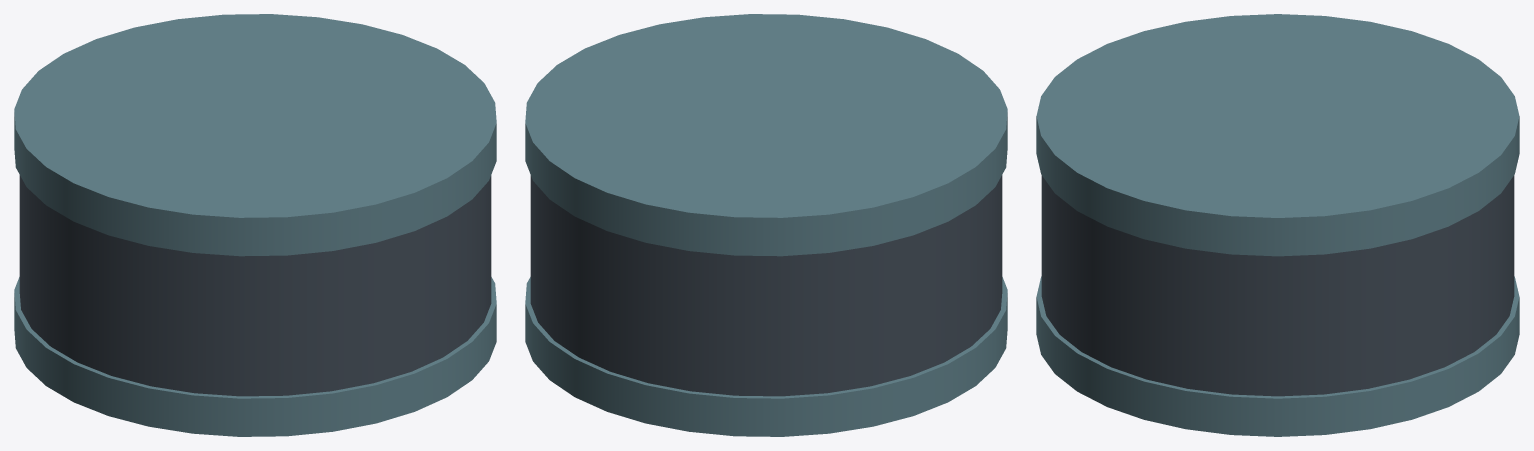
The model's file is SM_SupportJoint_R032_L032.glb.
3 views of the same model, side by side, from view 1: azimuth 30°, elevation 25°; view 2: azimuth 150°, elevation 25°; view 3: azimuth 270°, elevation 25° (orthographic).
Parts seen in each view (by area): view 1: VC_ENVKIT_Joint_TopLip, VC_ENVKIT_Joint_Core, VC_ENVKIT_Joint_BaseLip; view 2: VC_ENVKIT_Joint_TopLip, VC_ENVKIT_Joint_Core, VC_ENVKIT_Joint_BaseLip; view 3: VC_ENVKIT_Joint_TopLip, VC_ENVKIT_Joint_Core, VC_ENVKIT_Joint_BaseLip.
Part boxes in pixels (<box>): VC_ENVKIT_Joint_TopLip: <box>14,14,496,256</box>; VC_ENVKIT_Joint_Core: <box>19,175,491,396</box>; VC_ENVKIT_Joint_BaseLip: <box>14,277,496,436</box>; VC_ENVKIT_Joint_TopLip: <box>525,14,1007,256</box>; VC_ENVKIT_Joint_Core: <box>530,175,1002,396</box>; VC_ENVKIT_Joint_BaseLip: <box>525,277,1007,436</box>; VC_ENVKIT_Joint_TopLip: <box>1036,14,1519,256</box>; VC_ENVKIT_Joint_Core: <box>1041,175,1514,396</box>; VC_ENVKIT_Joint_BaseLip: <box>1036,276,1519,436</box>.
Bounding box in the file's own units: 0.64 × 0.32 × 0.64.
